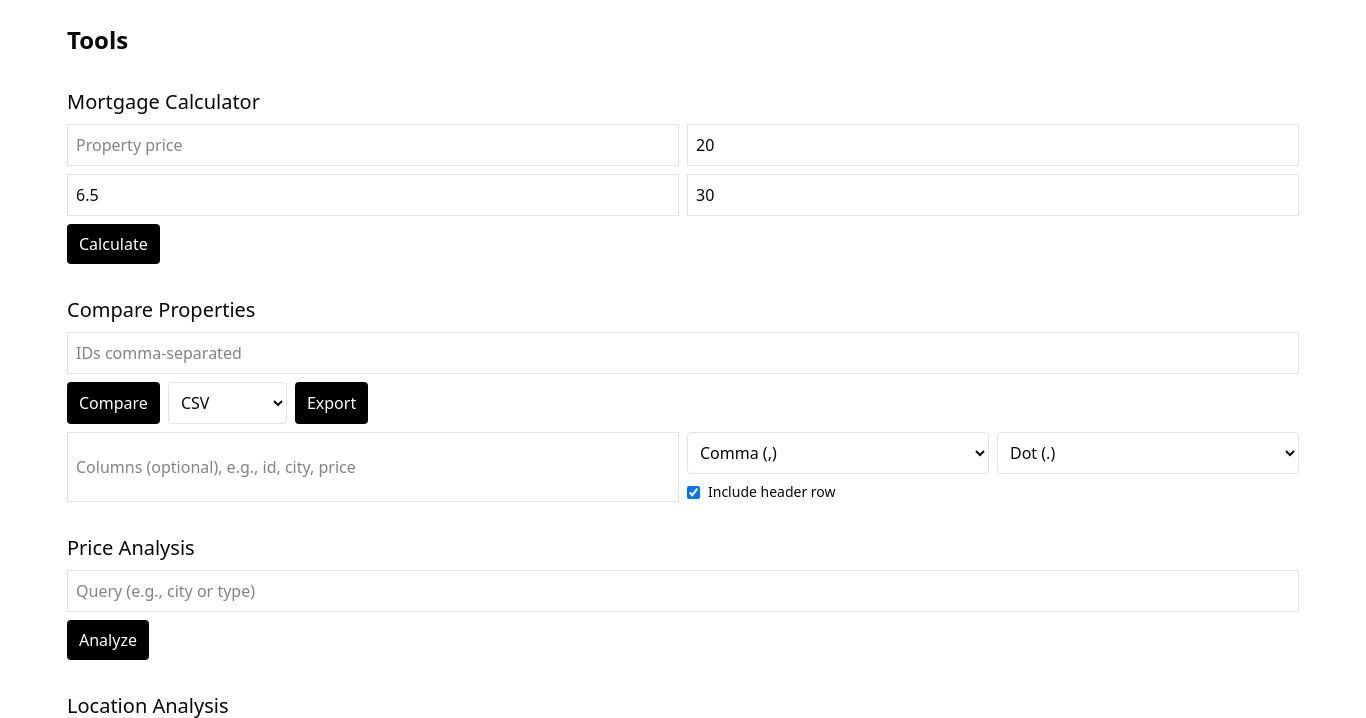
Test case: ToolsPage › PriceAnalysisSection › analyzes price and shows results
This screenshot has width=1366, height=718.
Type "Warsaw" into the field with placeholder "Query (e.g., city or type)" at (683, 591), box [67,570,1299,612]
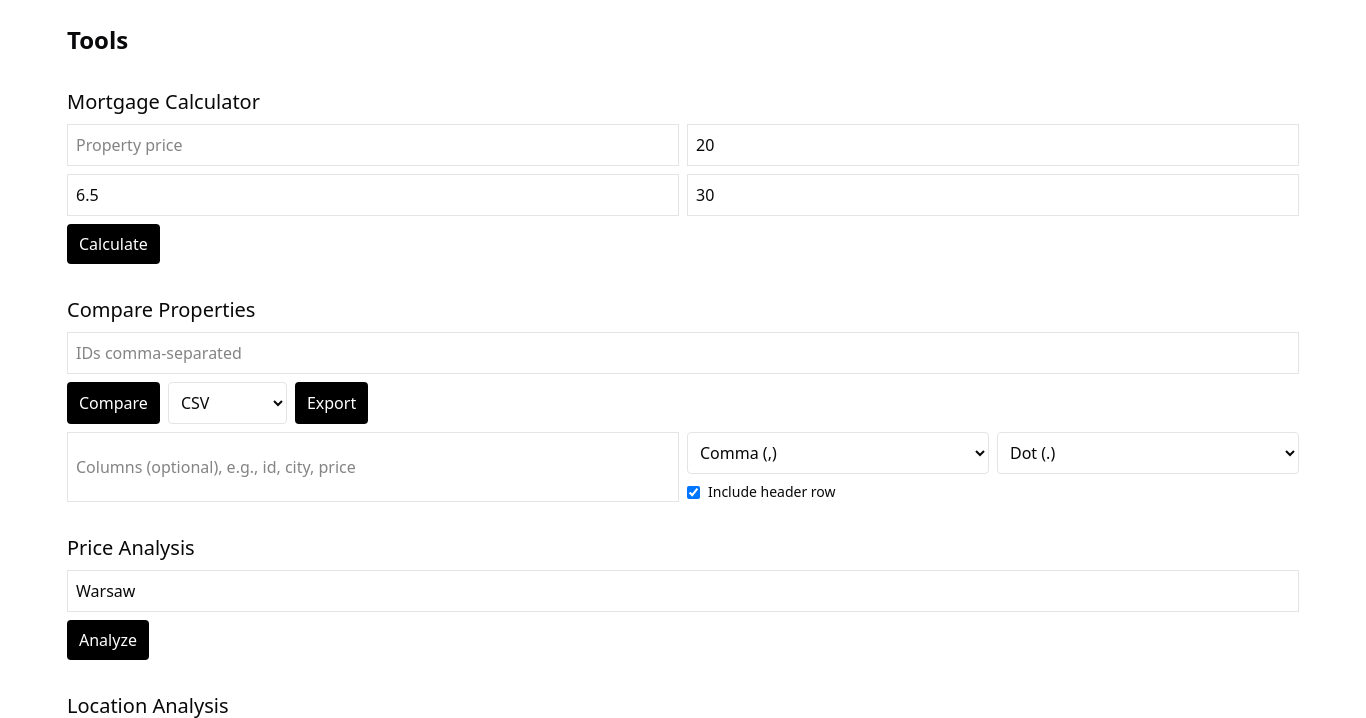
Click the button "Analyze" at (108, 640), box [67,620,149,660]
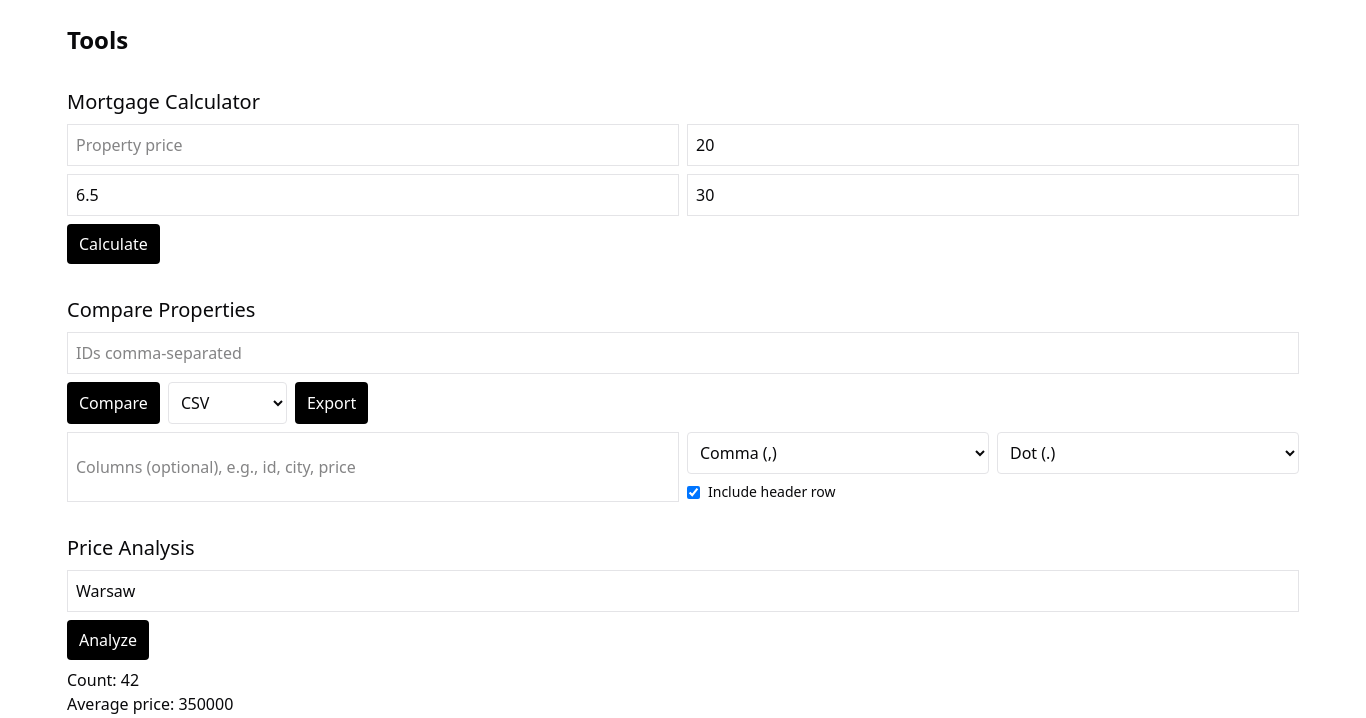
Result: the text "Count: 42" is shown at [67,669,139,691]
Result: the text "Average price: 350000" is shown at [67,693,233,715]
